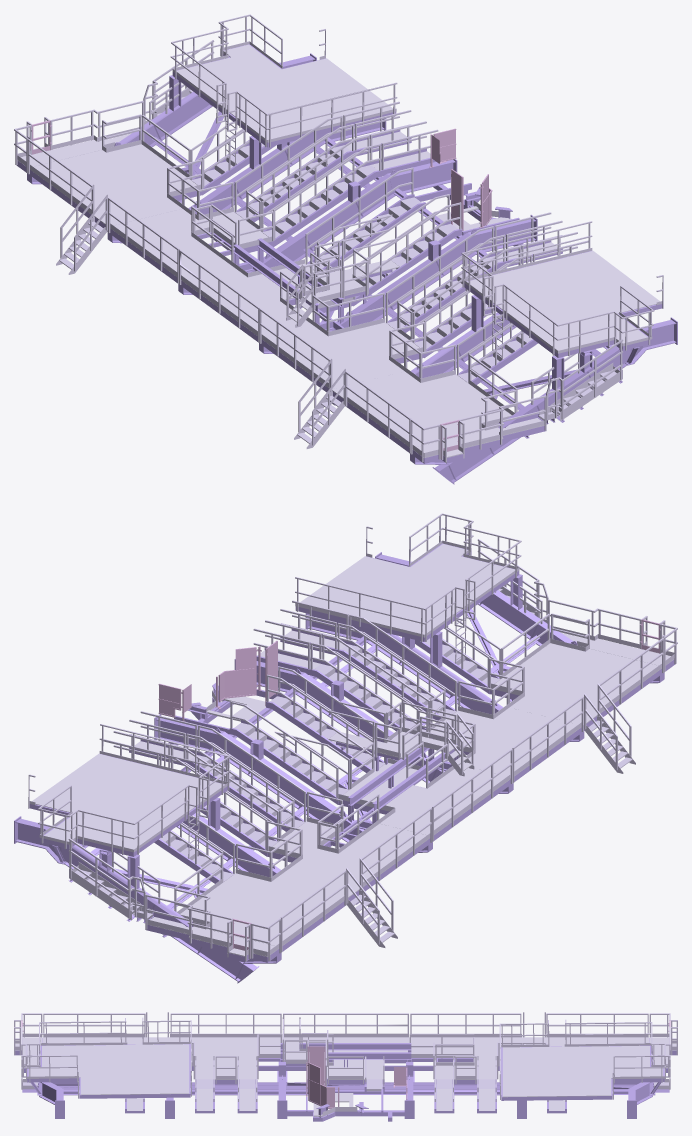
Rendered from HS-ARCHE-cut2.glb.
3 views of the same model, one above another, from view 1: azimuth 30°, elevation 25°; view 2: azimuth 150°, elevation 25°; view 3: azimuth 270°, elevation 25° (orthographic). The views are drawn at different scales.
Visible parts, largest first — view 1: _00000207B58B88B0_041_IndexedFaceSet, _00000207895ABB30_23_IndexedFaceSet, _00000207B58BB400_IndexedFaceSet, _00000207BBA2FDA0_IndexedFaceSet; view 2: _00000207B58B88B0_041_IndexedFaceSet, _00000207895ABB30_23_IndexedFaceSet, _00000207B58BB400_IndexedFaceSet, _00000207BBA2FDA0_IndexedFaceSet; view 3: _00000207895ABB30_23_IndexedFaceSet, _00000207B58B88B0_041_IndexedFaceSet, _00000207B58BB400_IndexedFaceSet, _00000207BBA2FDA0_IndexedFaceSet.
Boxes of the visible parts, x1,y1,x2,y2 form: _00000207B58B88B0_041_IndexedFaceSet: (14, 14, 663, 462); _00000207895ABB30_23_IndexedFaceSet: (17, 44, 659, 457); _00000207B58BB400_IndexedFaceSet: (17, 44, 677, 484); _00000207BBA2FDA0_IndexedFaceSet: (31, 120, 492, 458); _00000207B58B88B0_041_IndexedFaceSet: (28, 513, 677, 961); _00000207895ABB30_23_IndexedFaceSet: (32, 544, 673, 956); _00000207B58BB400_IndexedFaceSet: (14, 543, 675, 983); _00000207BBA2FDA0_IndexedFaceSet: (158, 619, 660, 957); _00000207895ABB30_23_IndexedFaceSet: (15, 1037, 676, 1116); _00000207B58B88B0_041_IndexedFaceSet: (14, 1012, 677, 1116); _00000207B58BB400_IndexedFaceSet: (14, 1038, 677, 1121); _00000207BBA2FDA0_IndexedFaceSet: (21, 1020, 670, 1108).
Size of the model in its own units: 11.47 by 4.86 by 26.59.
